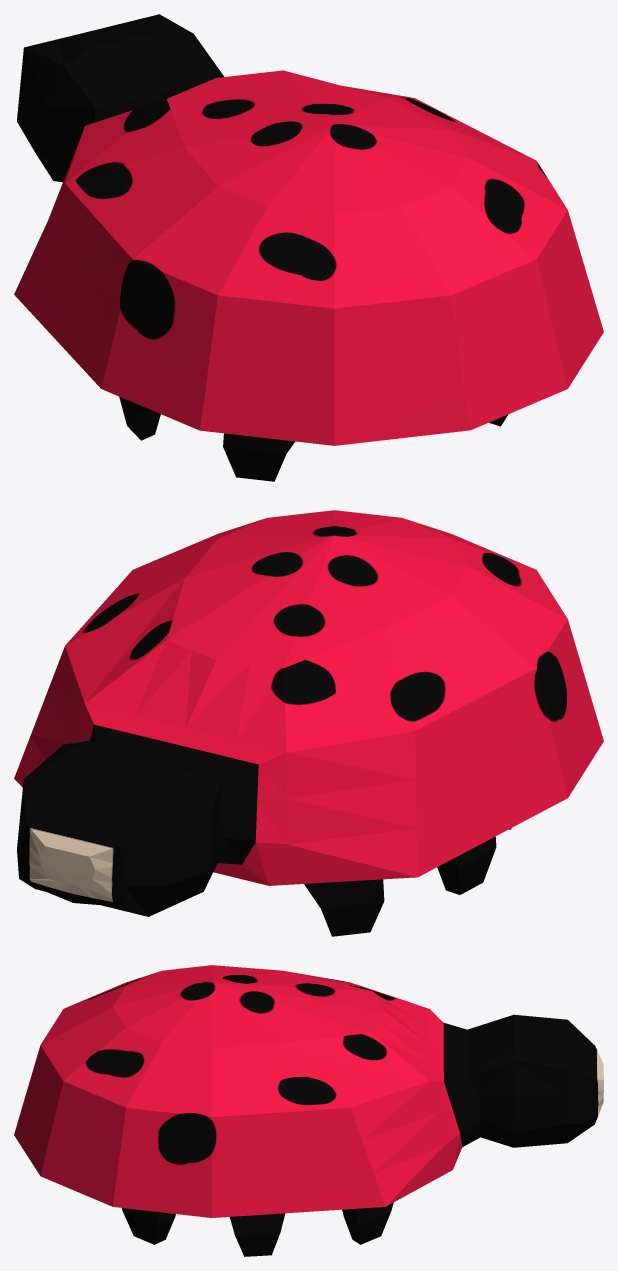
The model's file is LadyBug.FBX.
The picture shows the model from 3 angles, top to bottom: view 1: azimuth 30°, elevation 25°; view 2: azimuth 150°, elevation 25°; view 3: azimuth 270°, elevation 25°; orthographic projection. The views are drawn at different scales.
Parts seen in each view (by area): view 1: Sphere001; view 2: Sphere001; view 3: Sphere001.
Boxes of the visible parts, x1,y1,x2,y2 form: Sphere001: (14, 14, 603, 481); Sphere001: (14, 510, 603, 936); Sphere001: (14, 965, 603, 1256).
Size of the model in its own units: 2.26 by 1.35 by 3.38.
